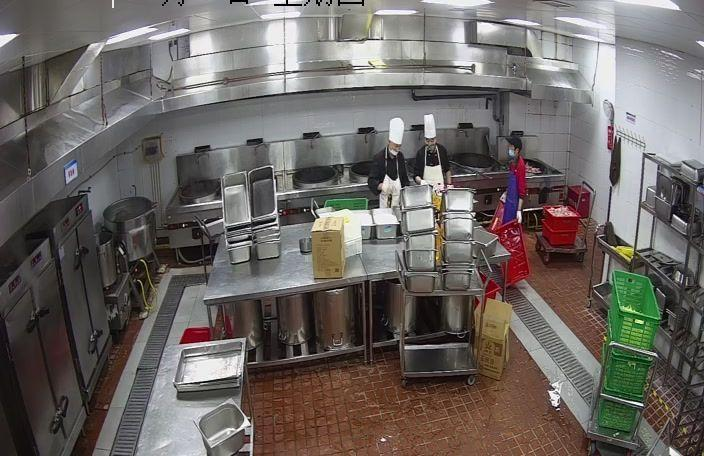mask: (390, 139, 400, 155), (426, 139, 438, 151)
